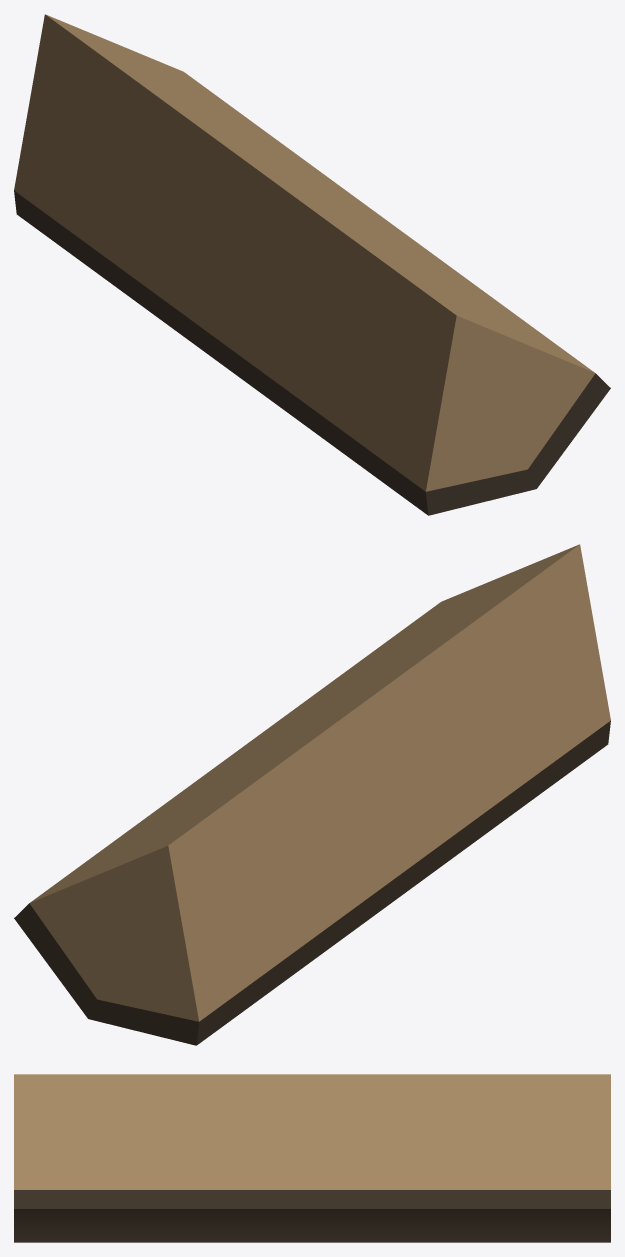
Rendered from SM_Prop_Wood_Pile_04.fbx.
3 renders of one model, top to bottom at view 1: azimuth 30°, elevation 25°; view 2: azimuth 150°, elevation 25°; view 3: azimuth 270°, elevation 25°, orthographic. The views are drawn at different scales.
Visible parts, largest first — view 1: SM_Prop_Wood_Pile_04; view 2: SM_Prop_Wood_Pile_04; view 3: SM_Prop_Wood_Pile_04.
Boxes of the visible parts, x1,y1,x2,y2 form: SM_Prop_Wood_Pile_04: [14, 14, 610, 515]; SM_Prop_Wood_Pile_04: [14, 544, 610, 1045]; SM_Prop_Wood_Pile_04: [14, 1074, 610, 1242].
Size of the model in its own units: 31.51 by 31.44 by 121.
